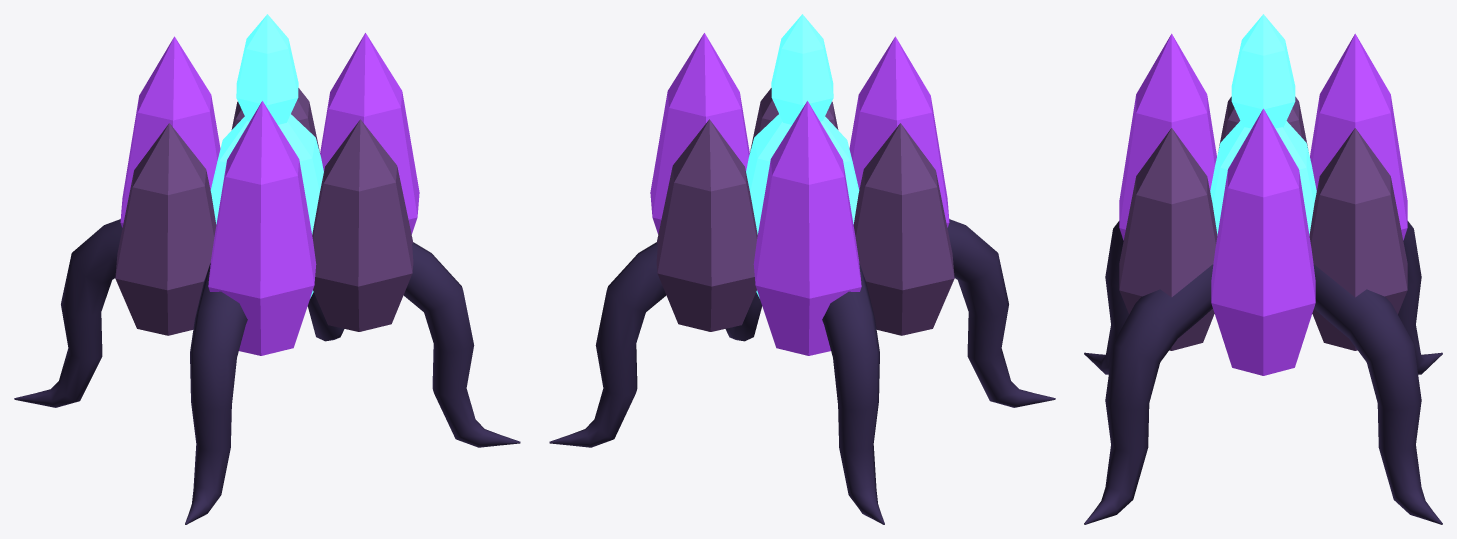
File: m_semente.glb
3 views of the same model, side by side, from view 1: azimuth 30°, elevation 25°; view 2: azimuth 150°, elevation 25°; view 3: azimuth 270°, elevation 25° (orthographic). The views are drawn at different scales.
Visible parts, largest first — view 1: Petala cristalina.004, Petala cristalina.005, Petala cristalina.003, Raiz_2, Raiz_3, Petala cristalina, Raiz_1, Petala cristalina.002, Ponta de mana, Nucleo interno, Petala cristalina.001, Raiz_0; view 2: Petala cristalina.002, Petala cristalina.001, Petala cristalina.003, Raiz_1, Raiz_0, Petala cristalina, Raiz_2, Petala cristalina.004, Ponta de mana, Nucleo interno, Petala cristalina.005, Raiz_3; view 3: Petala cristalina, Petala cristalina.001, Petala cristalina.005, Raiz_3, Raiz_0, Petala cristalina.002, Petala cristalina.004, Ponta de mana, Nucleo interno, Raiz_1, Raiz_2, Petala cristalina.003.
Part boxes in pixels (x1=…): Petala cristalina.004: x1=208, y1=101, x2=316, y2=355; Petala cristalina.005: x1=312, y1=119, x2=413, y2=331; Petala cristalina.003: x1=115, y1=123, x2=216, y2=335; Raiz_2: x1=185, y1=263, x2=247, y2=524; Raiz_3: x1=403, y1=242, x2=520, y2=447; Petala cristalina: x1=320, y1=33, x2=419, y2=234; Raiz_1: x1=14, y1=219, x2=122, y2=407; Petala cristalina.002: x1=120, y1=36, x2=220, y2=227; Ponta de mana: x1=236, y1=14, x2=298, y2=124; Nucleo interno: x1=210, y1=114, x2=323, y2=298; Petala cristalina.001: x1=231, y1=88, x2=319, y2=152; Raiz_0: x1=307, y1=292, x2=344, y2=341; Petala cristalina.002: x1=753, y1=101, x2=861, y2=355; Petala cristalina.001: x1=656, y1=119, x2=757, y2=331; Petala cristalina.003: x1=853, y1=123, x2=954, y2=335; Raiz_1: x1=822, y1=263, x2=884, y2=524; Raiz_0: x1=549, y1=242, x2=666, y2=447; Petala cristalina: x1=650, y1=33, x2=749, y2=234; Raiz_2: x1=947, y1=219, x2=1055, y2=407; Petala cristalina.004: x1=849, y1=36, x2=949, y2=227; Ponta de mana: x1=771, y1=14, x2=833, y2=124; Nucleo interno: x1=746, y1=114, x2=859, y2=298; Petala cristalina.005: x1=750, y1=88, x2=838, y2=152; Raiz_3: x1=725, y1=292, x2=761, y2=341; Petala cristalina: x1=1211, y1=108, x2=1315, y2=375; Petala cristalina.001: x1=1309, y1=128, x2=1407, y2=350; Petala cristalina.005: x1=1119, y1=128, x2=1217, y2=350; Raiz_3: x1=1084, y1=264, x2=1213, y2=524; Raiz_0: x1=1313, y1=264, x2=1442, y2=524; Petala cristalina.002: x1=1310, y1=33, x2=1407, y2=240; Petala cristalina.004: x1=1119, y1=33, x2=1216, y2=240; Ponta de mana: x1=1231, y1=14, x2=1295, y2=128; Nucleo interno: x1=1210, y1=121, x2=1316, y2=235; Raiz_1: x1=1398, y1=221, x2=1442, y2=374; Raiz_2: x1=1084, y1=221, x2=1128, y2=374; Petala cristalina.003: x1=1219, y1=96, x2=1307, y2=147.
Size of the model in its own units: 0.4964 by 0.5839 by 0.4402.
